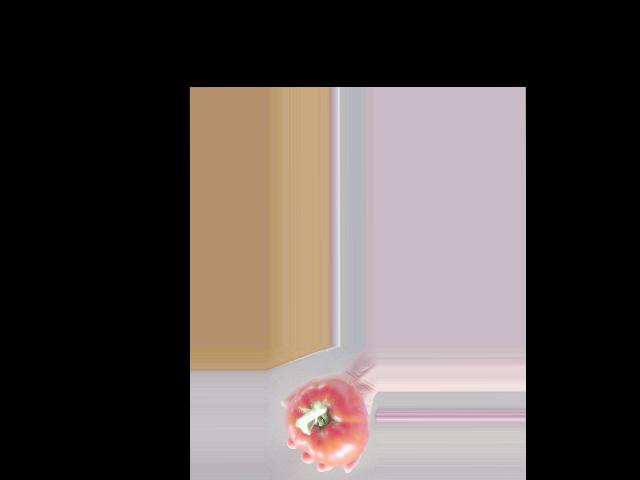tomato: (284, 379, 369, 466)
